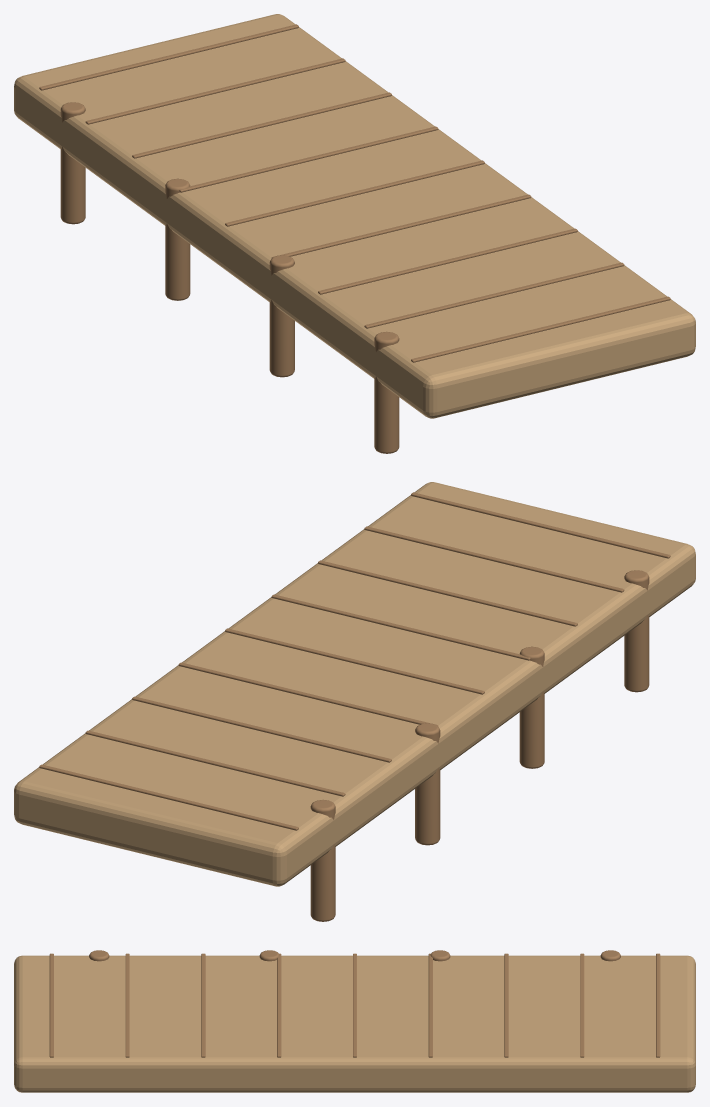
File: boardwalk_straight_lod0_v1.glb
3 views of the same model, one above another, from view 1: azimuth 30°, elevation 25°; view 2: azimuth 150°, elevation 25°; view 3: azimuth 270°, elevation 25° (orthographic). The views are drawn at different scales.
Parts seen in each view (by area): view 1: LOD0_BOARDWALK_STRAIGHT_Deck, LOD0_BOARDWALK_STRAIGHT_Pile_02, LOD0_BOARDWALK_STRAIGHT_Pile_04, LOD0_BOARDWALK_STRAIGHT_Pile_01, LOD0_BOARDWALK_STRAIGHT_Pile_03, LOD0_BOARDWALK_STRAIGHT_PlankGap_02, LOD0_BOARDWALK_STRAIGHT_PlankGap_08, LOD0_BOARDWALK_STRAIGHT_PlankGap_01, LOD0_BOARDWALK_STRAIGHT_PlankGap_05, LOD0_BOARDWALK_STRAIGHT_PlankGap_07, LOD0_BOARDWALK_STRAIGHT_PlankGap_09, LOD0_BOARDWALK_STRAIGHT_PlankGap_03 (+2 smaller); view 2: LOD0_BOARDWALK_STRAIGHT_Deck, LOD0_BOARDWALK_STRAIGHT_Pile_03, LOD0_BOARDWALK_STRAIGHT_Pile_01, LOD0_BOARDWALK_STRAIGHT_Pile_04, LOD0_BOARDWALK_STRAIGHT_Pile_02, LOD0_BOARDWALK_STRAIGHT_PlankGap_08, LOD0_BOARDWALK_STRAIGHT_PlankGap_02, LOD0_BOARDWALK_STRAIGHT_PlankGap_01, LOD0_BOARDWALK_STRAIGHT_PlankGap_03, LOD0_BOARDWALK_STRAIGHT_PlankGap_05, LOD0_BOARDWALK_STRAIGHT_PlankGap_09, LOD0_BOARDWALK_STRAIGHT_PlankGap_07 (+2 smaller); view 3: LOD0_BOARDWALK_STRAIGHT_Deck, LOD0_BOARDWALK_STRAIGHT_PlankGap_01, LOD0_BOARDWALK_STRAIGHT_PlankGap_03, LOD0_BOARDWALK_STRAIGHT_PlankGap_07, LOD0_BOARDWALK_STRAIGHT_PlankGap_09, LOD0_BOARDWALK_STRAIGHT_PlankGap_02, LOD0_BOARDWALK_STRAIGHT_PlankGap_08, LOD0_BOARDWALK_STRAIGHT_PlankGap_04, LOD0_BOARDWALK_STRAIGHT_PlankGap_06, LOD0_BOARDWALK_STRAIGHT_PlankGap_05.
Part boxes in pixels (x1,y1,x2,y2): LOD0_BOARDWALK_STRAIGHT_Deck: (14, 14, 695, 418); LOD0_BOARDWALK_STRAIGHT_Pile_02: (269, 255, 294, 377); LOD0_BOARDWALK_STRAIGHT_Pile_04: (60, 102, 85, 224); LOD0_BOARDWALK_STRAIGHT_Pile_01: (374, 331, 399, 453); LOD0_BOARDWALK_STRAIGHT_Pile_03: (165, 178, 190, 300); LOD0_BOARDWALK_STRAIGHT_PlankGap_02: (364, 262, 624, 328); LOD0_BOARDWALK_STRAIGHT_PlankGap_08: (85, 58, 345, 124); LOD0_BOARDWALK_STRAIGHT_PlankGap_01: (411, 296, 670, 362); LOD0_BOARDWALK_STRAIGHT_PlankGap_05: (225, 160, 484, 226); LOD0_BOARDWALK_STRAIGHT_PlankGap_07: (132, 92, 391, 158); LOD0_BOARDWALK_STRAIGHT_PlankGap_09: (39, 24, 298, 90); LOD0_BOARDWALK_STRAIGHT_PlankGap_03: (318, 228, 577, 294); LOD0_BOARDWALK_STRAIGHT_Deck: (14, 482, 695, 886); LOD0_BOARDWALK_STRAIGHT_Pile_03: (415, 723, 440, 845); LOD0_BOARDWALK_STRAIGHT_Pile_01: (624, 570, 649, 692); LOD0_BOARDWALK_STRAIGHT_Pile_04: (310, 799, 335, 921); LOD0_BOARDWALK_STRAIGHT_Pile_02: (519, 646, 544, 768); LOD0_BOARDWALK_STRAIGHT_PlankGap_08: (85, 730, 345, 796); LOD0_BOARDWALK_STRAIGHT_PlankGap_02: (364, 526, 624, 592); LOD0_BOARDWALK_STRAIGHT_PlankGap_01: (411, 492, 670, 558); LOD0_BOARDWALK_STRAIGHT_PlankGap_03: (318, 560, 577, 626); LOD0_BOARDWALK_STRAIGHT_PlankGap_05: (225, 628, 484, 694); LOD0_BOARDWALK_STRAIGHT_PlankGap_09: (39, 764, 298, 830); LOD0_BOARDWALK_STRAIGHT_PlankGap_07: (132, 696, 391, 762); LOD0_BOARDWALK_STRAIGHT_Deck: (14, 955, 695, 1092); LOD0_BOARDWALK_STRAIGHT_PlankGap_01: (49, 953, 53, 1057); LOD0_BOARDWALK_STRAIGHT_PlankGap_03: (201, 953, 205, 1057); LOD0_BOARDWALK_STRAIGHT_PlankGap_07: (504, 953, 508, 1057); LOD0_BOARDWALK_STRAIGHT_PlankGap_09: (656, 953, 660, 1057); LOD0_BOARDWALK_STRAIGHT_PlankGap_02: (125, 953, 129, 1057); LOD0_BOARDWALK_STRAIGHT_PlankGap_08: (580, 953, 584, 1057); LOD0_BOARDWALK_STRAIGHT_PlankGap_04: (277, 953, 281, 1057); LOD0_BOARDWALK_STRAIGHT_PlankGap_06: (428, 953, 432, 1057); LOD0_BOARDWALK_STRAIGHT_PlankGap_05: (353, 953, 356, 1057).
Size of what is drawn, in the model's own units: 3 by 1.2 by 8.
